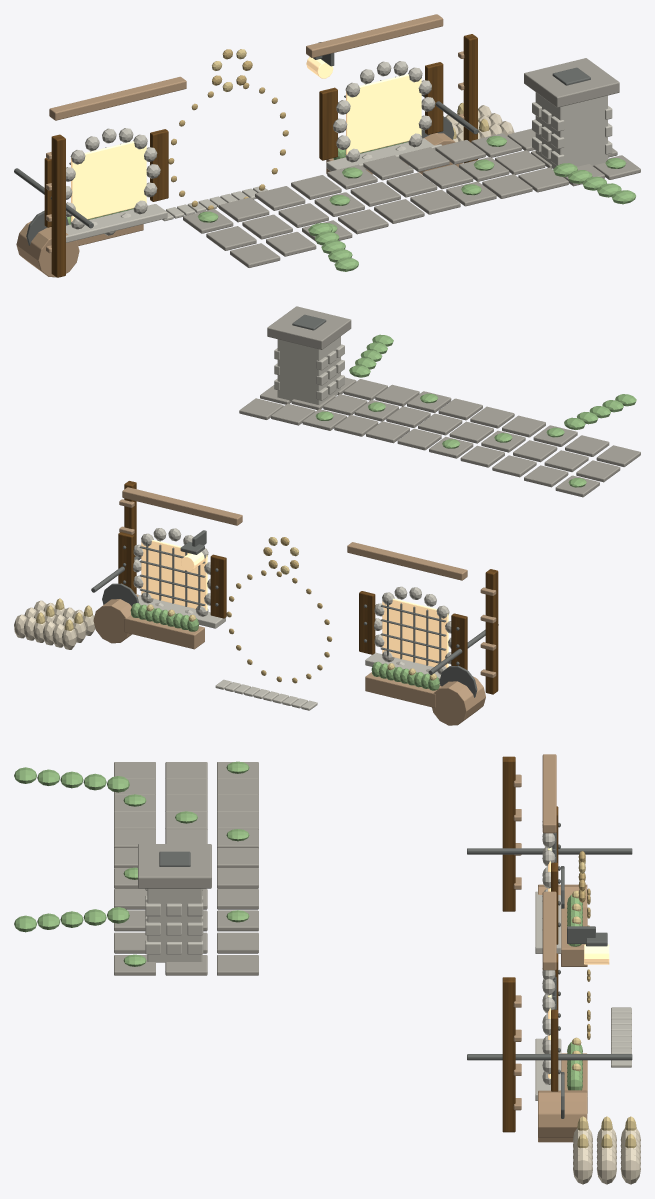
File: shire_longacre_cottage_craftwork.glb
The picture shows the model from 3 angles, top to bottom: view 1: azimuth 30°, elevation 25°; view 2: azimuth 150°, elevation 25°; view 3: azimuth 270°, elevation 25°; orthographic projection. The views are drawn at different scales.
Visible parts, largest first — view 1: Art_roof_slate, Art_rounded_fieldstone, Art_amber_glass, Art_oak_grain_original, Art_weathered_wood, Art_ivy_and_herbs, Art_forged_iron, Art_warm_brass, Art_handwoven_linen, Art_household_motif_color; view 2: Art_roof_slate, Art_weathered_wood, Art_rounded_fieldstone, Art_amber_glass, Art_oak_grain_original, Art_forged_iron, Art_ivy_and_herbs, Art_handwoven_linen, Art_household_motif_color, Art_warm_brass; view 3: Art_roof_slate, Art_rounded_fieldstone, Art_weathered_wood, Art_ivy_and_herbs, Art_oak_grain_original, Art_forged_iron, Art_handwoven_linen, Art_household_motif_color, Art_amber_glass.
Part boxes in pixels (left/top/right/bottom): Art_roof_slate: left=183, top=58, right=640, bottom=267; Art_rounded_fieldstone: left=66, top=61, right=612, bottom=242; Art_amber_glass: left=71, top=57, right=421, bottom=221; Art_oak_grain_original: left=44, top=34, right=477, bottom=277; Art_weathered_wood: left=16, top=14, right=464, bottom=277; Art_ivy_and_herbs: left=67, top=136, right=635, bottom=271; Art_forged_iron: left=14, top=42, right=590, bottom=245; Art_warm_brass: left=168, top=49, right=288, bottom=210; Art_handwoven_linen: left=445, top=105, right=514, bottom=142; Art_household_motif_color: left=212, top=49, right=489, bottom=139; Art_roof_slate: left=239, top=306, right=640, bottom=497; Art_weathered_wood: left=93, top=487, right=496, bottom=725; Art_rounded_fieldstone: left=133, top=336, right=451, bottom=710; Art_amber_glass: left=141, top=540, right=448, bottom=667; Art_oak_grain_original: left=118, top=481, right=498, bottom=694; Art_forged_iron: left=91, top=314, right=498, bottom=697; Art_ivy_and_herbs: left=130, top=334, right=636, bottom=690; Art_handwoven_linen: left=14, top=600, right=95, bottom=649; Art_household_motif_color: left=36, top=537, right=436, bottom=680; Art_warm_brass: left=226, top=537, right=332, bottom=683; Art_roof_slate: left=114, top=762, right=258, bottom=975; Art_rounded_fieldstone: left=145, top=821, right=631, bottom=1100; Art_weathered_wood: left=513, top=754, right=587, bottom=1142; Art_ivy_and_herbs: left=14, top=761, right=582, bottom=1090; Art_oak_grain_original: left=502, top=756, right=558, bottom=1132; Art_forged_iron: left=159, top=823, right=632, bottom=1118; Art_handwoven_linen: left=573, top=1128, right=640, bottom=1184; Art_household_motif_color: left=572, top=860, right=636, bottom=1148; Art_amber_glass: left=548, top=848, right=609, bottom=1078.
Bounding box in the file's own units: 8.66 × 4.02 × 8.65.
Materials: 10 (1 with a texture image).
